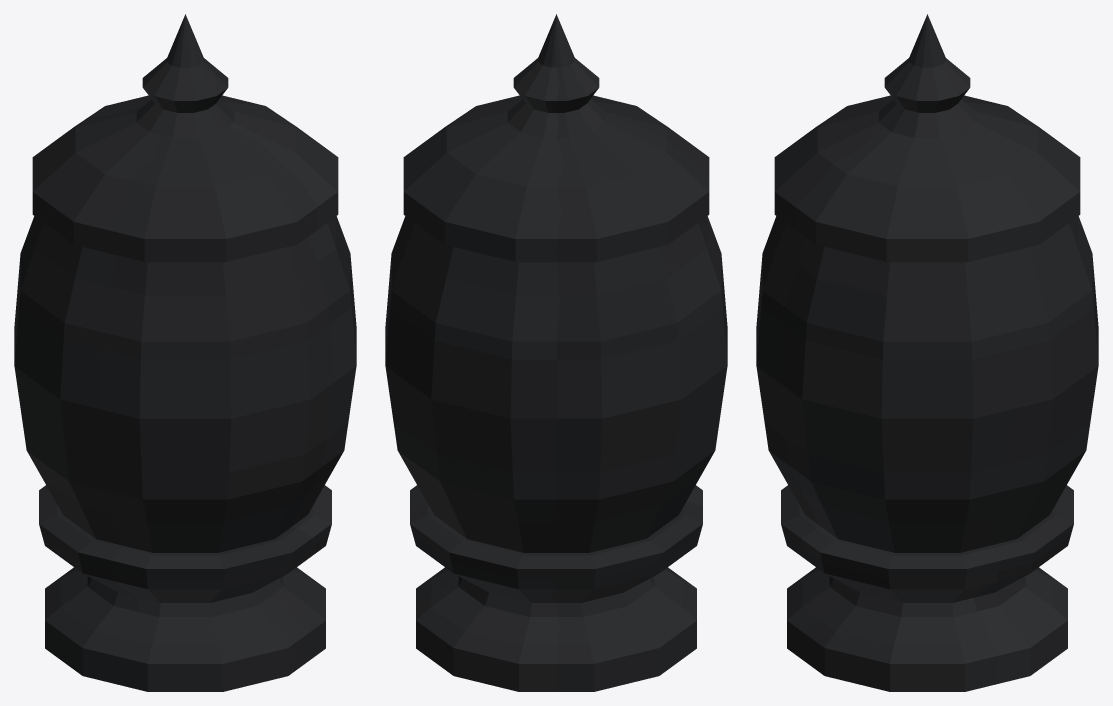
The model's file is decolight_reproacorn_inv.obj.
3 renders of one model, left to right at view 1: azimuth 30°, elevation 25°; view 2: azimuth 150°, elevation 25°; view 3: azimuth 270°, elevation 25°, orthographic.
Parts seen in each view (by area): view 1: decolight_reproacorn_inv; view 2: decolight_reproacorn_inv; view 3: decolight_reproacorn_inv.
Part boxes in pixels (x1,y1,x2,y2): decolight_reproacorn_inv: (14,14,356,691); decolight_reproacorn_inv: (385,14,727,691); decolight_reproacorn_inv: (756,14,1098,691).
Size of the model in its own units: 0.4888 by 0.975 by 0.4888.
